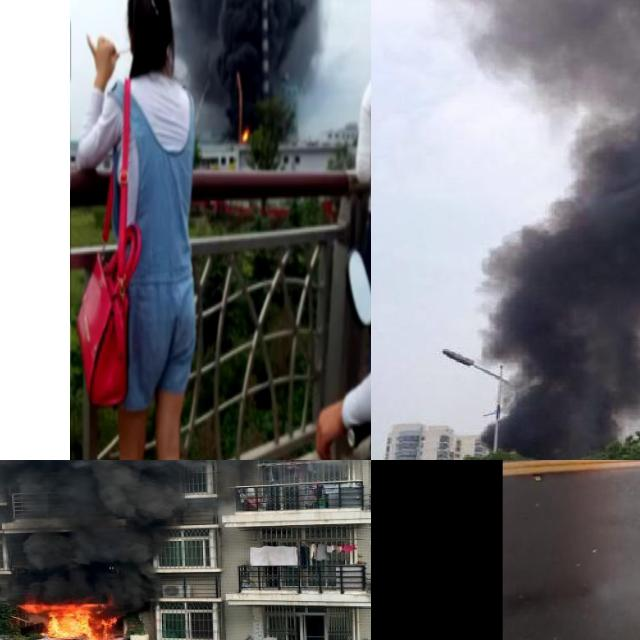fire: (21, 596, 118, 640), (240, 124, 250, 144)
smoke: (435, 0, 640, 458), (0, 460, 277, 603), (158, 0, 329, 127)
